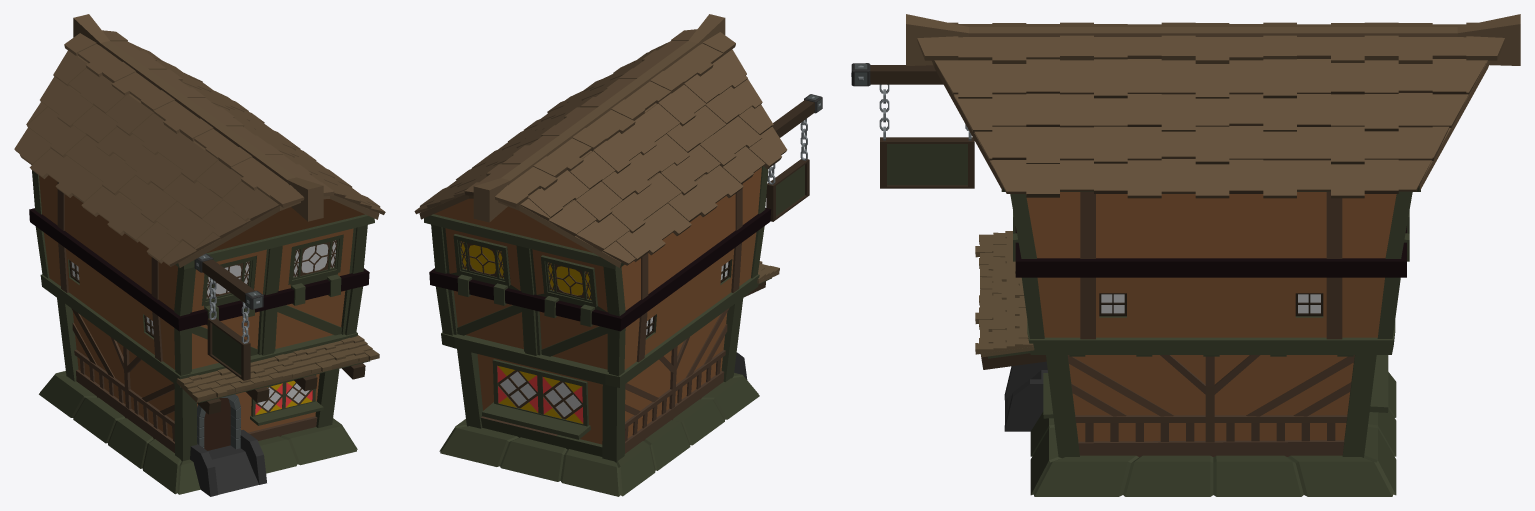
File: SM_Hous_13_B.gltf
The picture shows the model from 3 angles, left to right: view 1: azimuth 30°, elevation 25°; view 2: azimuth 150°, elevation 25°; view 3: azimuth 270°, elevation 25°; orthographic projection. The views are drawn at different scales.
Visible parts, largest first — view 1: SM_Hous_13_B; view 2: SM_Hous_13_B; view 3: SM_Hous_13_B.
Part boxes in pixels (bbox=[...]): SM_Hous_13_B: bbox=[14, 14, 385, 496]; SM_Hous_13_B: bbox=[414, 14, 822, 496]; SM_Hous_13_B: bbox=[851, 14, 1520, 496].
Size of the model in its own units: 8.61 by 11.86 by 17.15.
